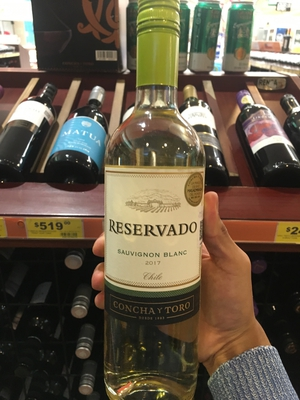reservado sauvignon blanc: (100, 1, 210, 399)
